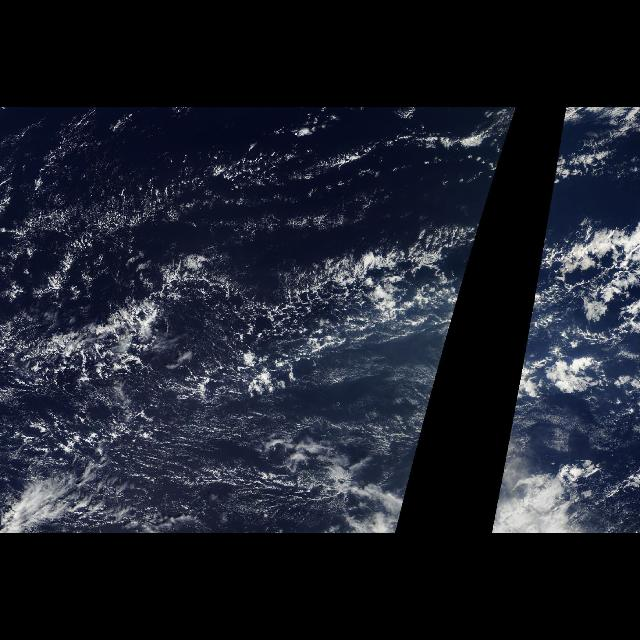Fish: (6, 224, 474, 400)
